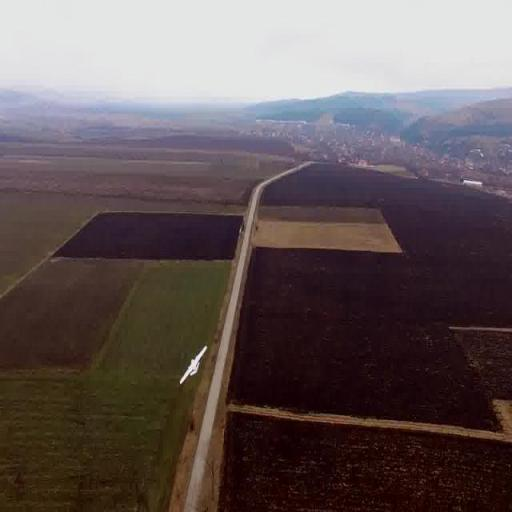uav: (156, 328, 222, 402)
